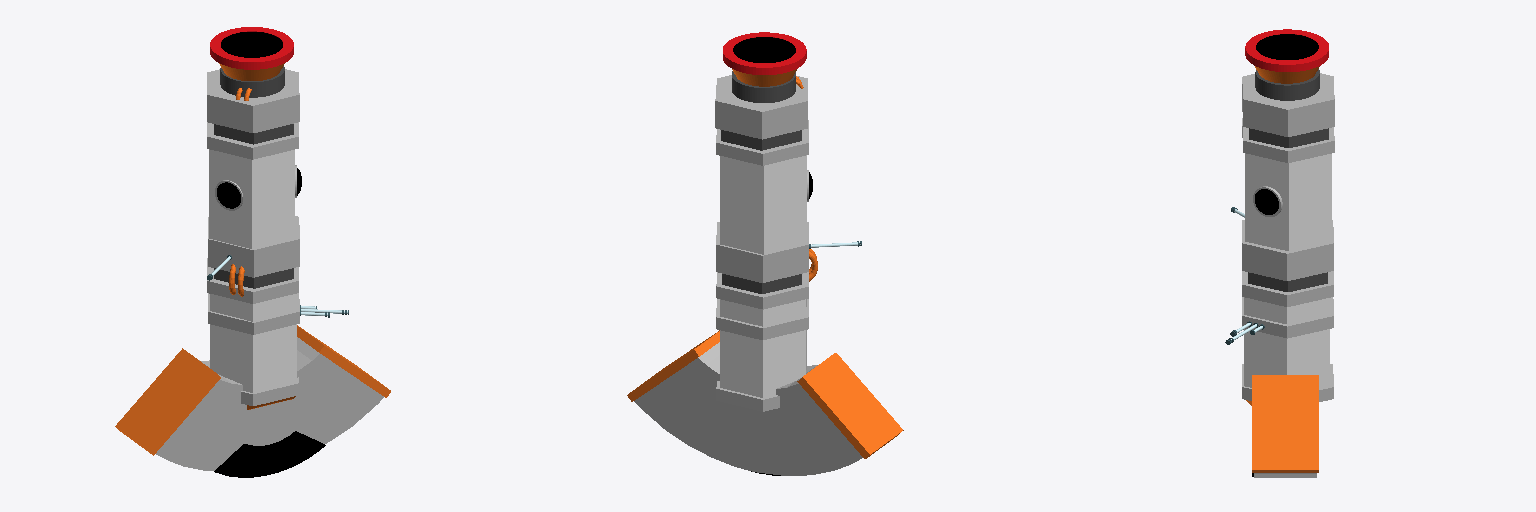
Rendered from rocketShip2.obj.
The picture shows the model from 3 angles: view 1: azimuth 30°, elevation 25°; view 2: azimuth 150°, elevation 25°; view 3: azimuth 270°, elevation 25°; orthographic projection.
Visible parts, largest first — view 1: Object.21, Object.3, Object.6, Object.42, Object.37, Object.4, Object.9, Object.43, Object.2, Object.7, Object.15, Object.38 (+6 smaller); view 2: Object.21, Object.3, Object.6, Object.42, Object.37, Object.9, Object.43, Object.7, Object.2, Object.15, Object.38, Object.33 (+5 smaller); view 3: Object.3, Object.11, Object.6, Object.37, Object.9, Object.43, Object.2, Object.7, Object.38, Object.15, Object.33, Object.8 (+2 smaller).
Part boxes in pixels (left/top/right/bottom): Object.21: left=156, top=337, right=383, bottom=470; Object.3: left=209, top=149, right=294, bottom=248; Object.6: left=210, top=294, right=296, bottom=392; Object.42: left=115, top=348, right=220, bottom=455; Object.37: left=207, top=69, right=299, bottom=132; Object.4: left=214, top=431, right=325, bottom=477; Object.9: left=208, top=216, right=299, bottom=277; Object.43: left=210, top=27, right=293, bottom=69; Object.2: left=207, top=122, right=298, bottom=159; Object.7: left=207, top=258, right=298, bottom=303; Object.15: left=208, top=293, right=299, bottom=334; Object.38: left=221, top=32, right=282, bottom=57; Object.21: left=634, top=342, right=862, bottom=475; Object.3: left=720, top=155, right=806, bottom=254; Object.6: left=720, top=299, right=806, bottom=397; Object.42: left=797, top=353, right=903, bottom=458; Object.37: left=715, top=75, right=807, bottom=139; Object.9: left=716, top=222, right=808, bottom=282; Object.43: left=723, top=32, right=806, bottom=74; Object.7: left=716, top=272, right=808, bottom=309; Object.2: left=716, top=120, right=808, bottom=165; Object.15: left=716, top=299, right=808, bottom=339; Object.38: left=733, top=37, right=795, bottom=62; Object.33: left=732, top=71, right=795, bottom=102; Object.3: left=1245, top=153, right=1331, bottom=250; Object.11: left=1252, top=375, right=1318, bottom=472; Object.6: left=1244, top=297, right=1329, bottom=388; Object.37: left=1242, top=73, right=1334, bottom=136; Object.9: left=1242, top=220, right=1333, bottom=280; Object.43: left=1245, top=29, right=1328, bottom=71; Object.2: left=1242, top=118, right=1334, bottom=162; Object.7: left=1242, top=271, right=1333, bottom=306; Object.38: left=1256, top=34, right=1318, bottom=59; Object.15: left=1242, top=297, right=1333, bottom=338; Object.33: left=1255, top=69, right=1319, bottom=100; Object.8: left=1248, top=272, right=1327, bottom=291.
Size of the model in its own units: 5.75 by 9.44 by 2.24.